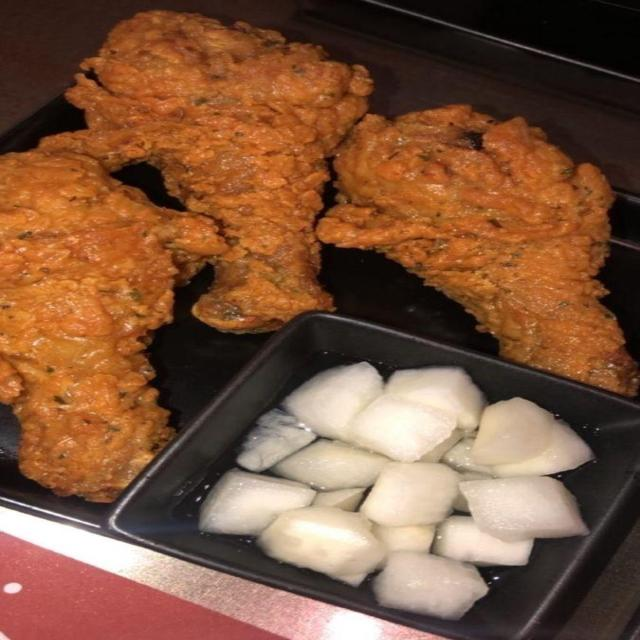Chicken -Fried Chicken-: (83, 14, 362, 348), (339, 93, 640, 400), (0, 87, 193, 481)
